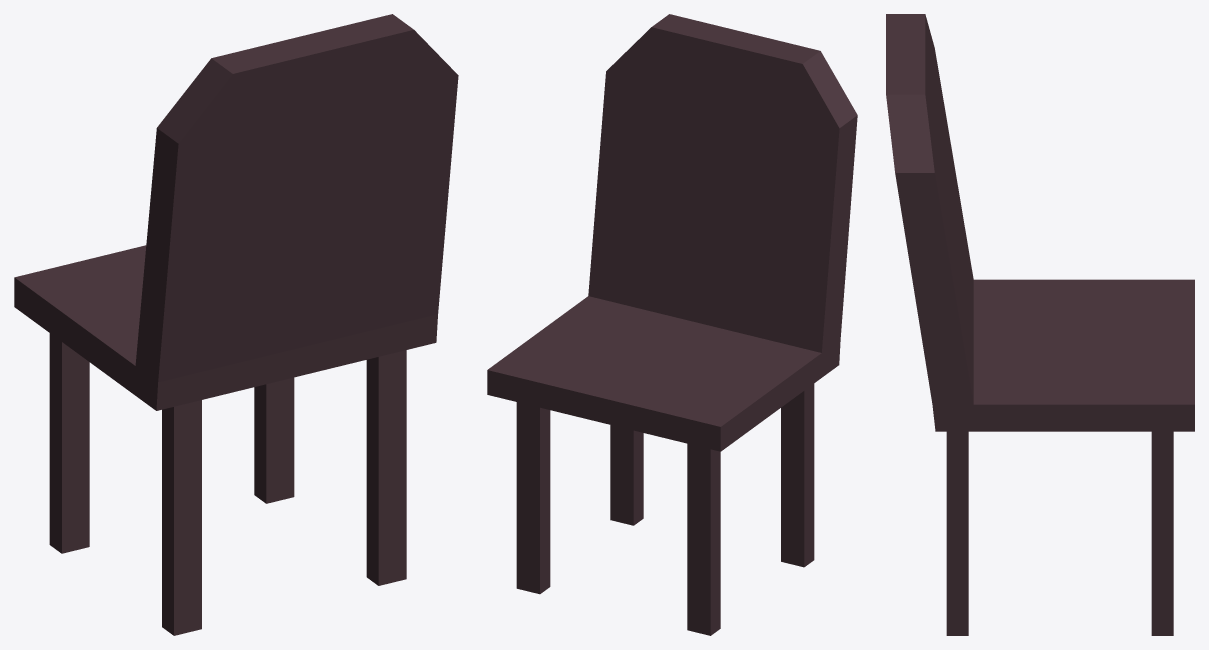
File: Chair.fbx
3 views of the same model, side by side, from view 1: azimuth 30°, elevation 25°; view 2: azimuth 150°, elevation 25°; view 3: azimuth 270°, elevation 25° (orthographic). The views are drawn at different scales.
Visible parts, largest first — view 1: chair; view 2: chair; view 3: chair.
Boxes of the visible parts, x1=… form: chair: x1=14, y1=14, x2=458, y2=635; chair: x1=487, y1=14, x2=857, y2=635; chair: x1=886, y1=14, x2=1194, y2=635.
Size of the model in its own units: 67.95 by 135 by 71.07.
